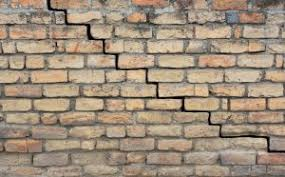stairstep_crack: (44, 0, 284, 153)
